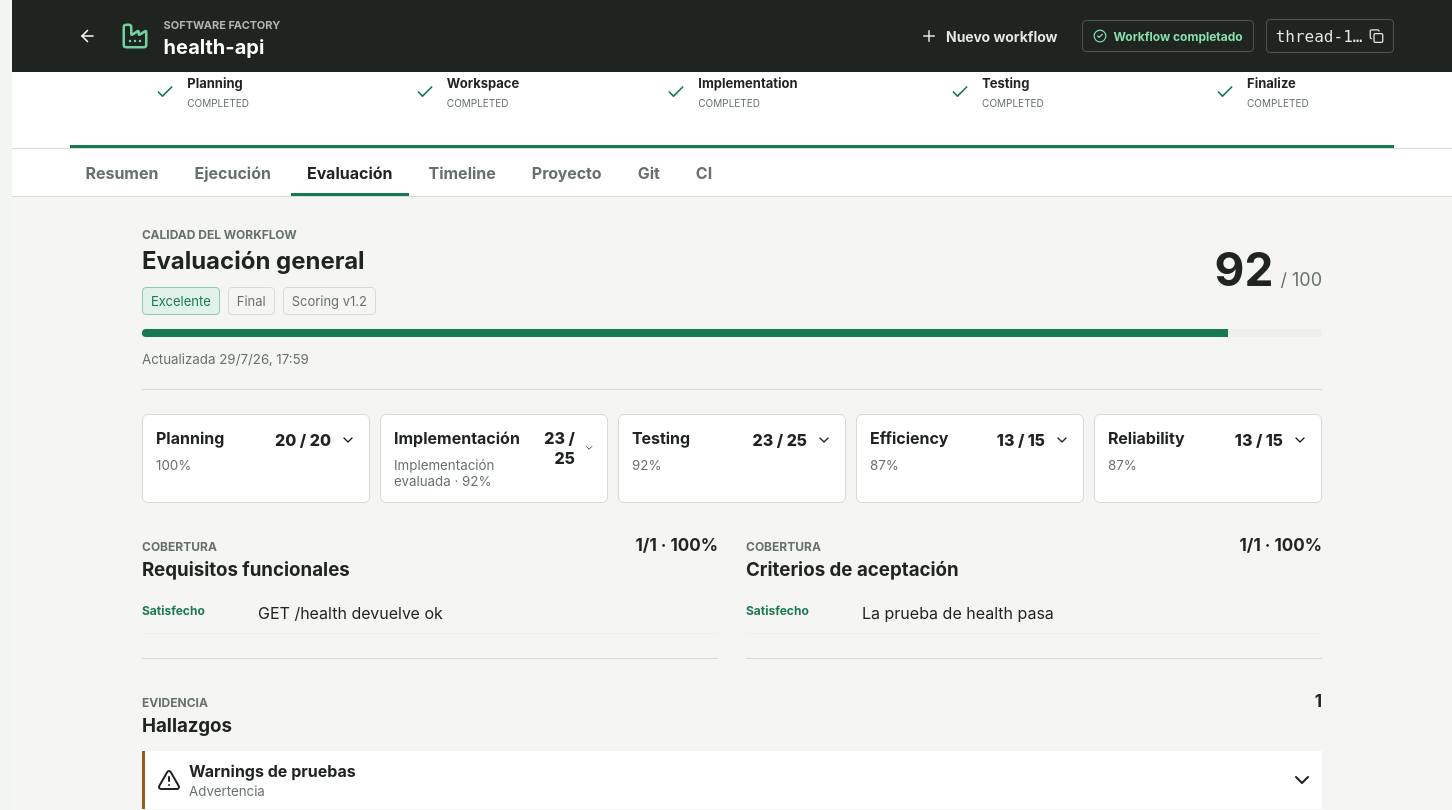
Scenario: pages › preserves branch while selecting an evaluation category
The image size is (1452, 810).
Step 1. Click the button "Testing 92% 23 / 25" → [732, 453], box x1=619 y1=415 x2=845 y2=491
(page scrolled)
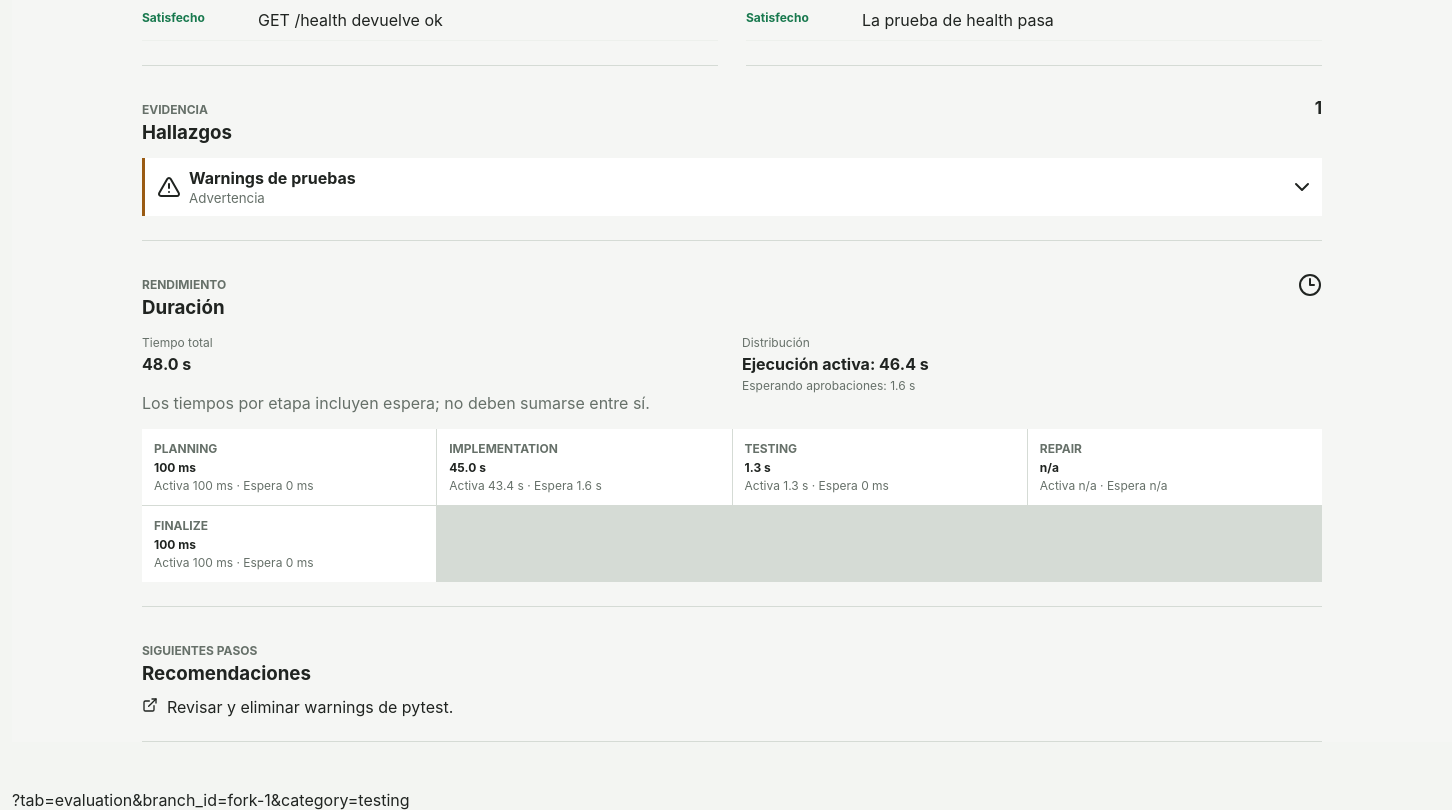
Expected: the text named "current-location" reads "?tab=evaluation&branch_id=fork-1&category=testing", x1=12 y1=790 x2=410 y2=809
